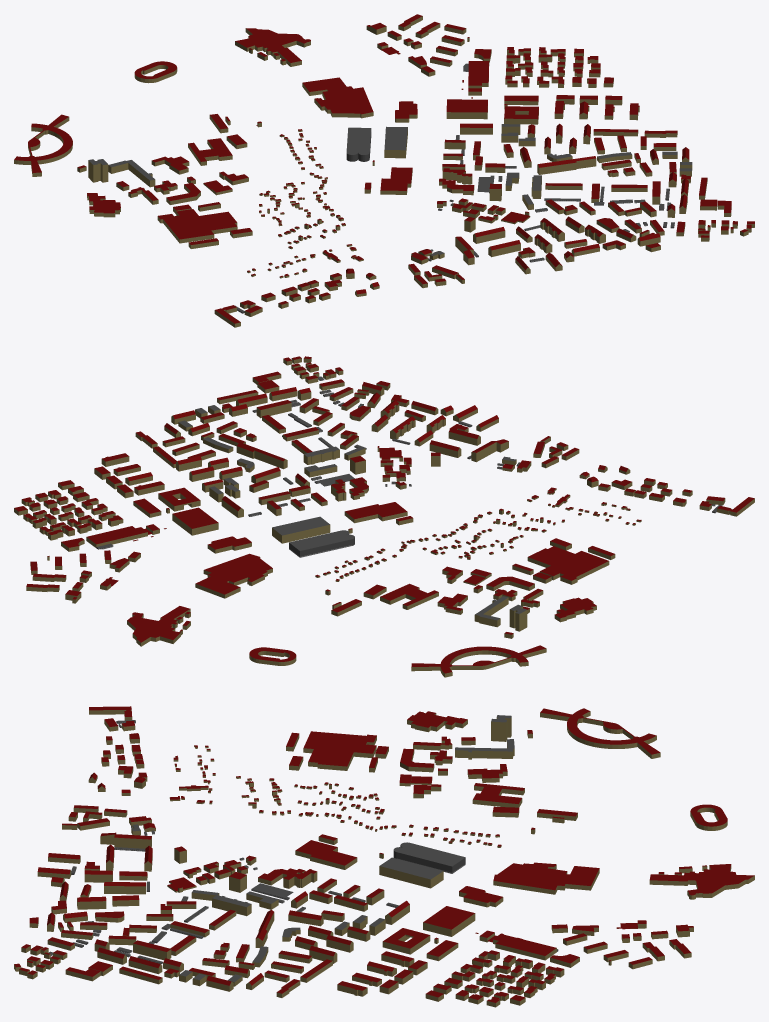
File: Ingolstadt_Tile_7_7.obj
The picture shows the model from 3 angles, top to bottom: view 1: azimuth 30°, elevation 25°; view 2: azimuth 150°, elevation 25°; view 3: azimuth 270°, elevation 25°; orthographic projection. The views are drawn at different scales.
Visible parts, largest first — view 1: Building384, Building Donautherme, Building Saturn Arena, Building Reduit Tilly, object 172, Building Parkhaus Arena, Building Radhaus, Building Hotel und Business Center Ingolstadt, Building344, Building Turm Triva, Building Wirtschaftsschule Ingolstadt, Building152 (+2 smaller); view 2: Building384, Building Reduit Tilly, Building Donautherme, Building Saturn Arena, Building Parkhaus Arena, Building Hotel und Business Center Ingolstadt, object 172, Building Radhaus, Building EDEKA, Building Turm Triva, Building Wirtschaftsschule Ingolstadt, Building152 (+3 smaller); view 3: Building384, Building Reduit Tilly, Building Donautherme, Building Saturn Arena, Building Parkhaus Arena, Building Hotel und Business Center Ingolstadt, object 172, Building Radhaus, Building EDEKA, Building Wirtschaftsschule Ingolstadt, Building152, Building381 (+9 smaller).
Boxes of the visible parts, x1,y1,x2,y2 form: Building384: [157, 209, 237, 243]; Building Donautherme: [235, 28, 310, 66]; Building Saturn Arena: [314, 86, 373, 118]; Building Reduit Tilly: [14, 114, 72, 176]; object 172: [446, 99, 487, 119]; Building Parkhaus Arena: [346, 127, 371, 161]; Building Radhaus: [380, 167, 412, 194]; Building Hotel und Business Center Ingolstadt: [384, 126, 407, 158]; Building344: [537, 156, 596, 174]; Building Turm Triva: [134, 61, 177, 83]; Building Wirtschaftsschule Ingolstadt: [87, 193, 120, 217]; Building152: [504, 106, 538, 124]; Building384: [527, 546, 609, 584]; Building Reduit Tilly: [411, 645, 546, 677]; Building Donautherme: [127, 606, 190, 646]; Building Saturn Arena: [203, 553, 272, 585]; Building Parkhaus Arena: [289, 530, 354, 557]; Building Hotel und Business Center Ingolstadt: [272, 516, 330, 543]; object 172: [172, 507, 218, 535]; Building Radhaus: [344, 502, 407, 523]; Building EDEKA: [86, 526, 147, 547]; Building Turm Triva: [249, 647, 296, 665]; Building Wirtschaftsschule Ingolstadt: [554, 597, 596, 622]; Building152: [158, 487, 200, 511]; Building384: [303, 731, 376, 770]; Building Reduit Tilly: [540, 708, 660, 758]; Building Donautherme: [649, 864, 754, 899]; Building Saturn Arena: [493, 862, 569, 894]; Building Parkhaus Arena: [393, 842, 465, 873]; Building Hotel und Business Center Ingolstadt: [379, 857, 443, 888]; object 172: [423, 906, 475, 936]; Building Radhaus: [295, 840, 357, 869]; Building EDEKA: [493, 934, 556, 960]; Building Wirtschaftsschule Ingolstadt: [407, 711, 467, 732]; Building152: [382, 928, 430, 954]; Building381: [455, 739, 514, 759].
Size of the model in its own units: 1063 by 32.5 by 1123.
